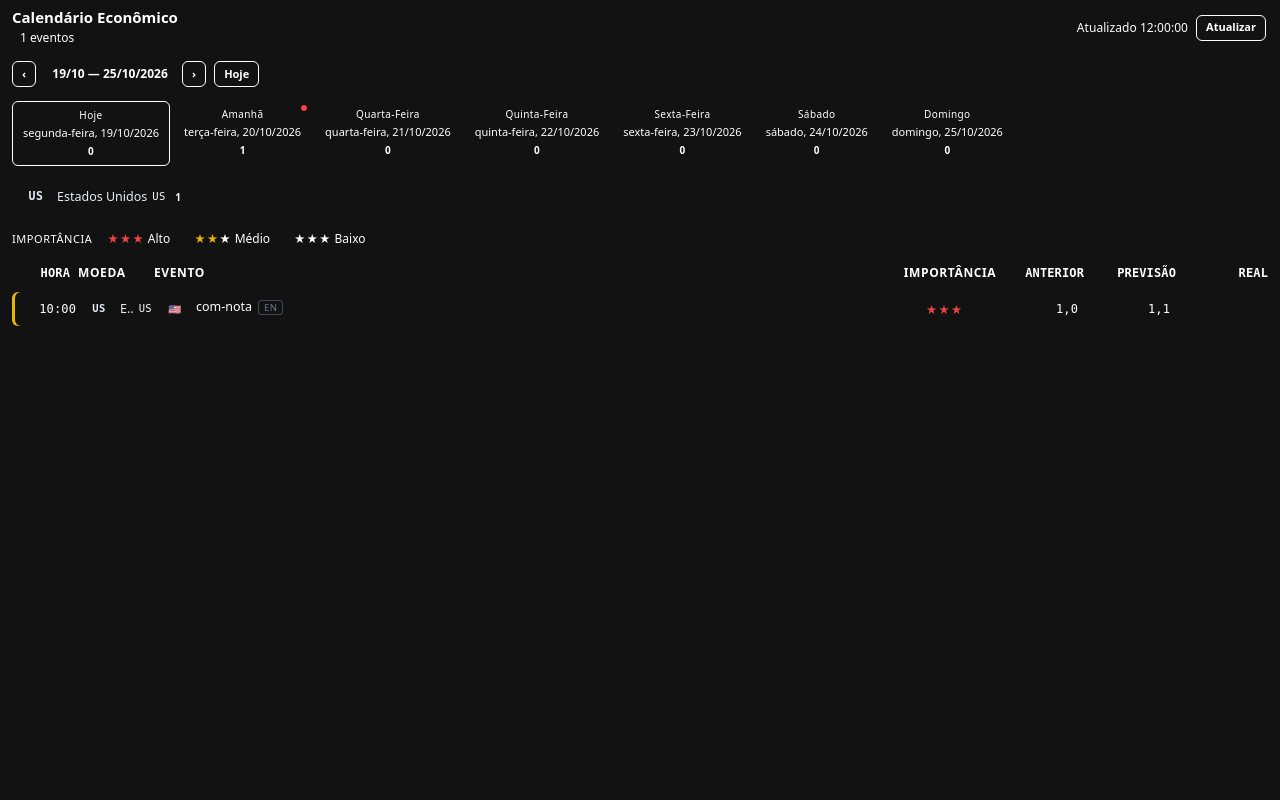
Test: EconomicCalendarTab — padrão MT5 › mostra a descricao do evento, que antes era descartada
Click the button with class "cal-row" at (58, 309), box [12,292,1268,326]
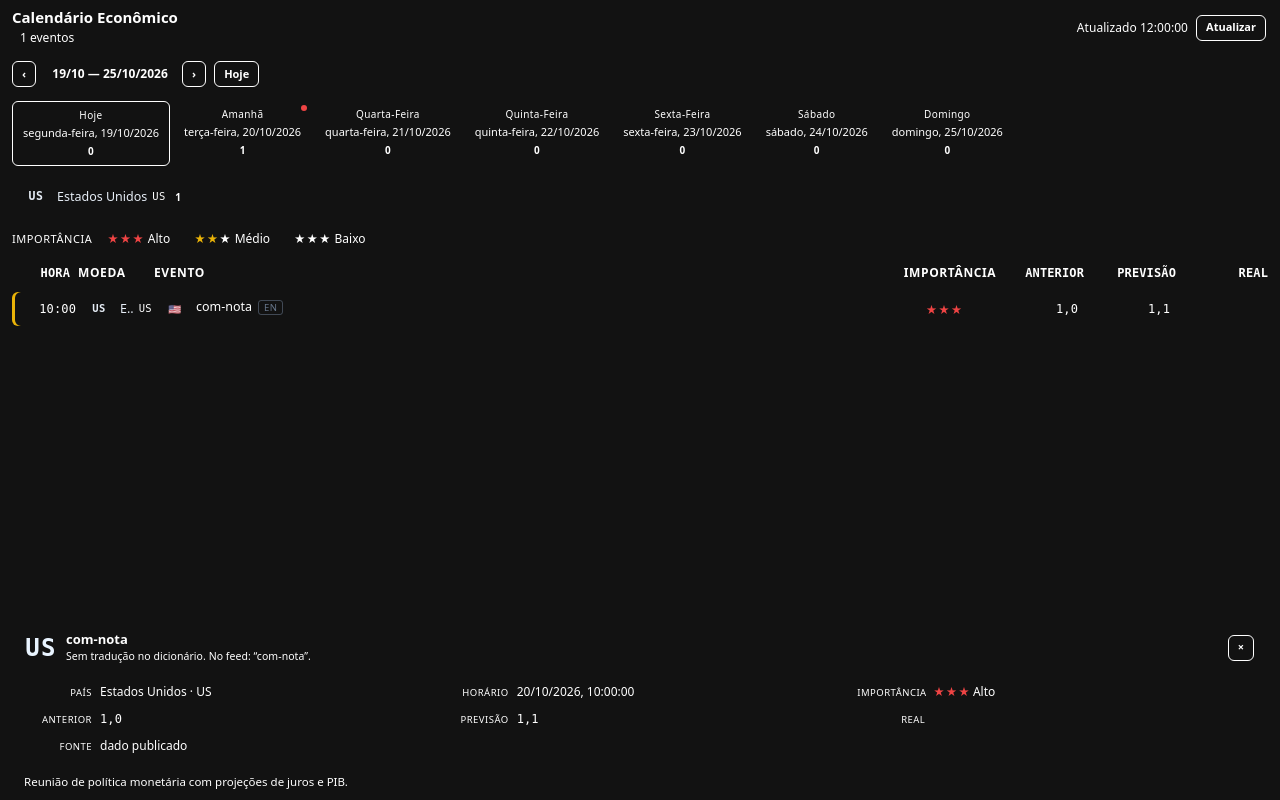
Expected: the text with class "cal-detalhe-nota" shows "projeções de juros", [24,774,348,789]
